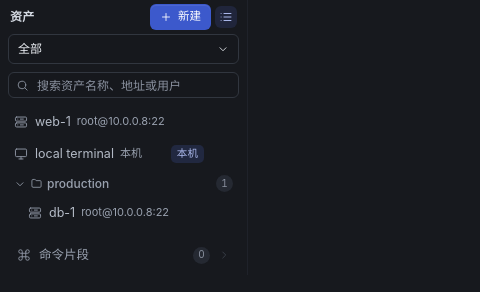
it: asset name priority in narrow sidebars › shows identities after names only when space remains, and allows compact rows
Expected: the text with class "nx-asset-row-name" reads "web-1", [35,114,71,129]
Expected: the text with class "nx-asset-row-identity" next to "web-1" reads "root@10.0.0.8:22", [77,114,165,128]
What coordinates should you click on to do the following:
click the button named "视图"
I would click on:
 (226, 17)
Its box is [215,6,237,28].
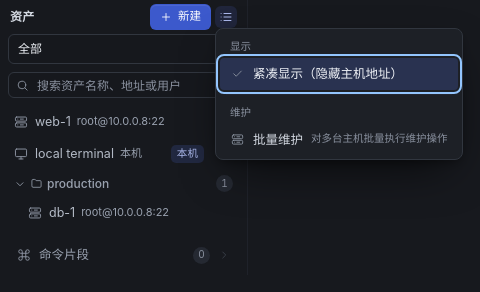
What coordinates should you click on to do the following:
click the menu item "紧凑显示（隐藏主机地址）"
I would click on:
 (339, 74)
Its box is [220,58,458,90].
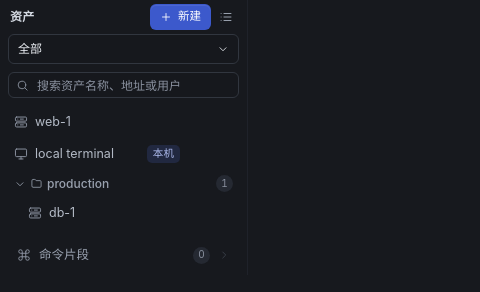
Expected: the text with class "nx-asset-row-name" reads "web-1", [35,114,71,129]
Result: the text with class "nx-asset-row-identity" is gone
What coordinates should you click on to do the following:
click the button named "视图"
I would click on:
 (226, 17)
Its box is [215,6,237,28].
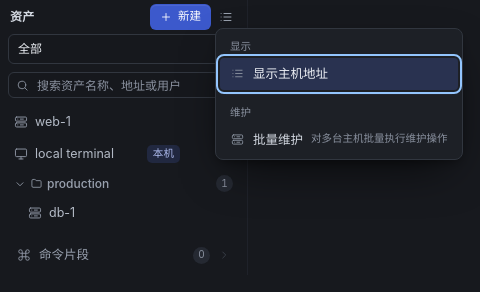
What coordinates should you click on to do the following:
click the menu item "显示主机地址"
I would click on:
 (339, 74)
Its box is [220,58,458,90].
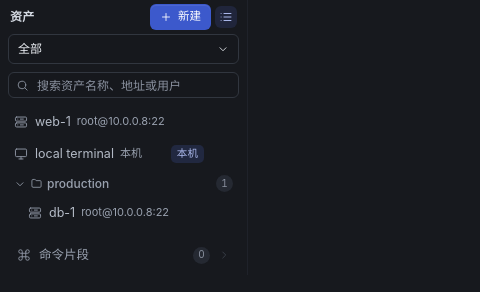
Result: the text with class "nx-asset-row-identity" next to "web-1" reads "root@10.0.0.8:22" at [77,114,165,128]
